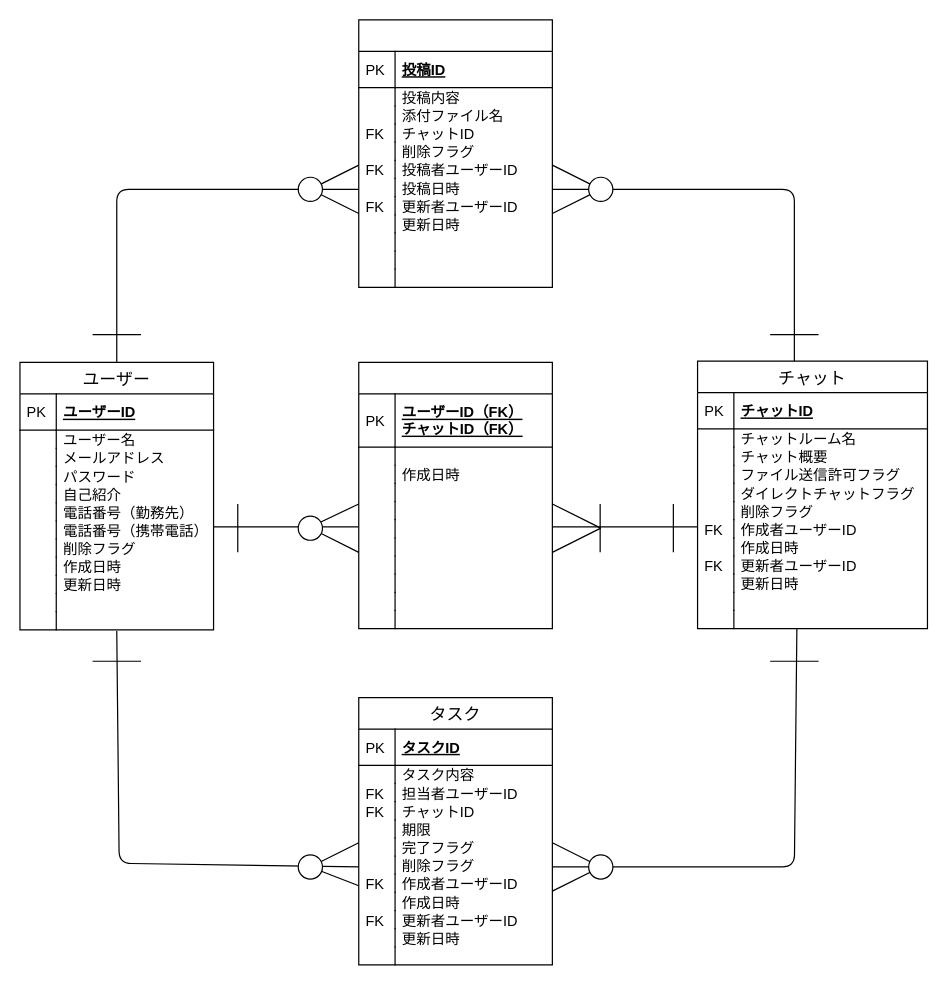
The diagram is 947 pixels wide and 985 high, and some of its shapes have lost their labels. The box of each missing label's shape, as (x1, y1, x2, y2) in pixels:
チャット参加者: (358, 361, 552, 629)
投稿: (358, 19, 552, 287)
